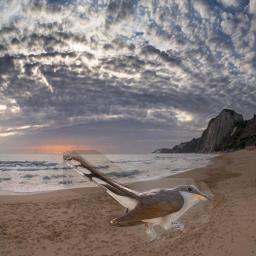Cuckoo: (63, 150, 214, 247)
